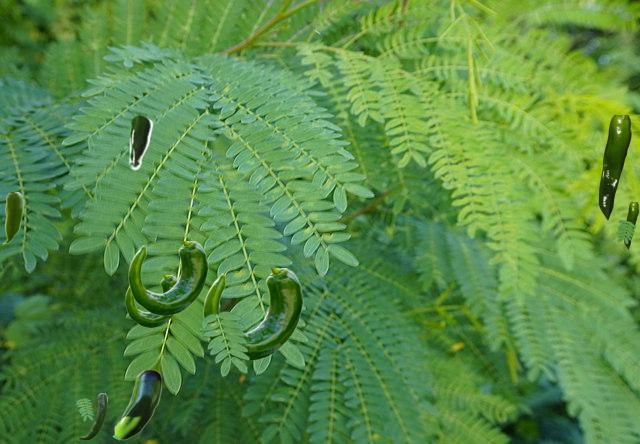green_chili: (203, 268, 302, 359), (128, 241, 207, 314), (598, 115, 630, 219), (112, 370, 160, 439), (125, 275, 177, 326), (127, 114, 152, 169), (78, 393, 106, 439), (2, 192, 22, 243), (624, 202, 637, 248)
